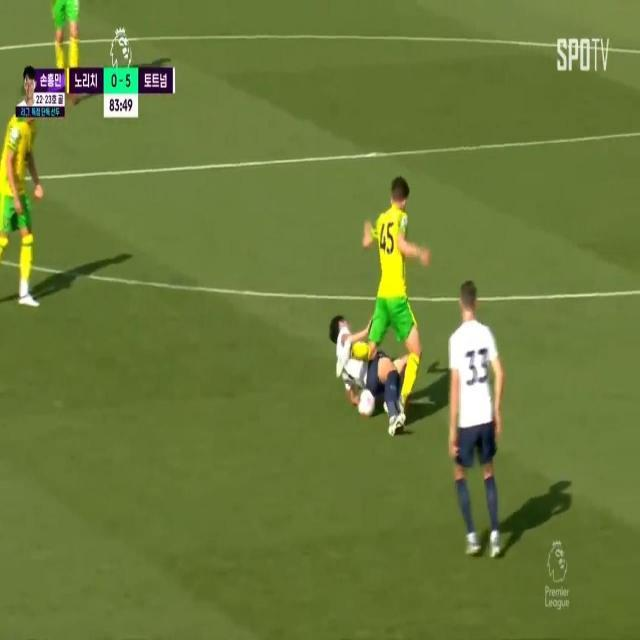ball: (351, 383, 386, 417)
player: (448, 278, 506, 566), (376, 176, 430, 397), (0, 71, 43, 325), (325, 321, 396, 424), (47, 0, 85, 102)
